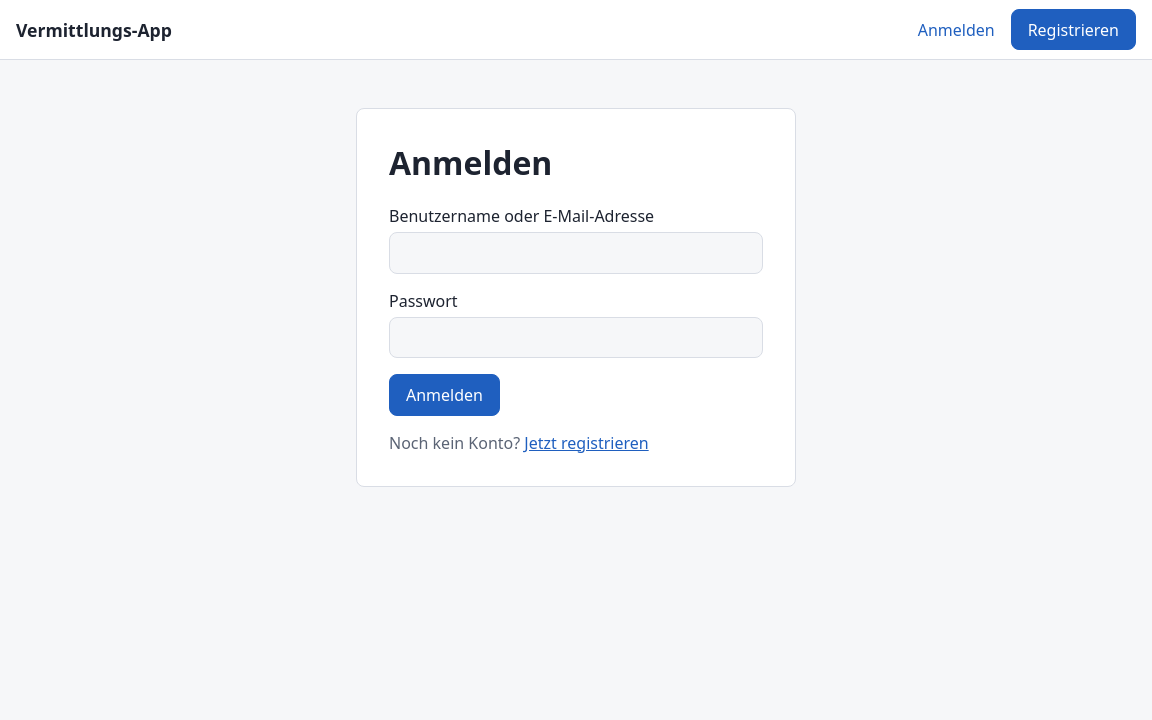
Scenario: LoginPage › shows the error message for invalid credentials
Type "anna@example.com" into the field labelled "Benutzername oder E-Mail-Adresse". click: [576, 253]
box: 389,232 -> 763,274
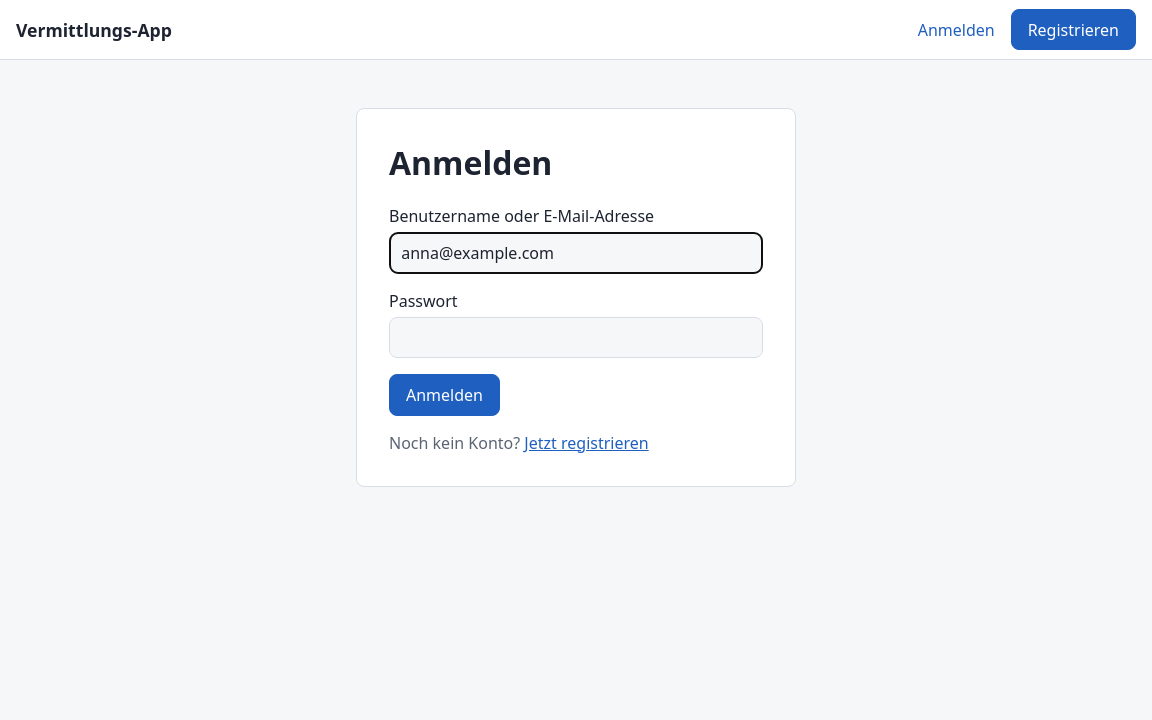
Type "wrong" into the password field labelled "Passwort". click: [576, 337]
box: 389,317 -> 763,358
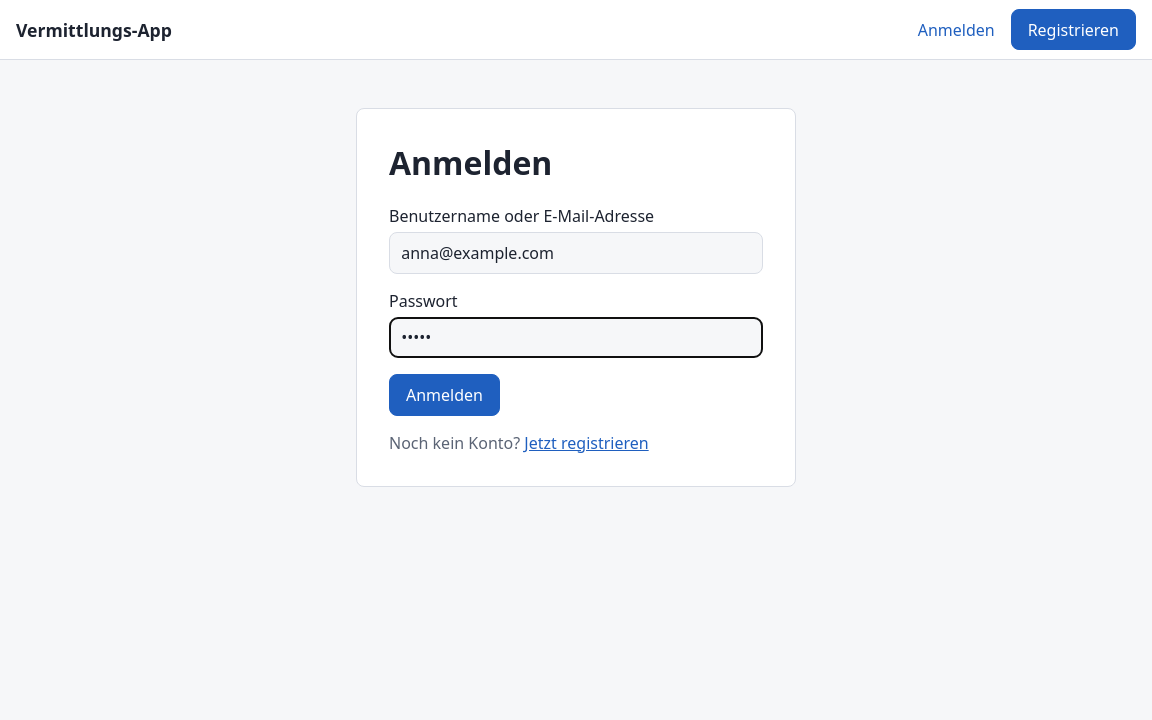
Click the button "Anmelden". click: [444, 395]
box: 389,374 -> 500,416
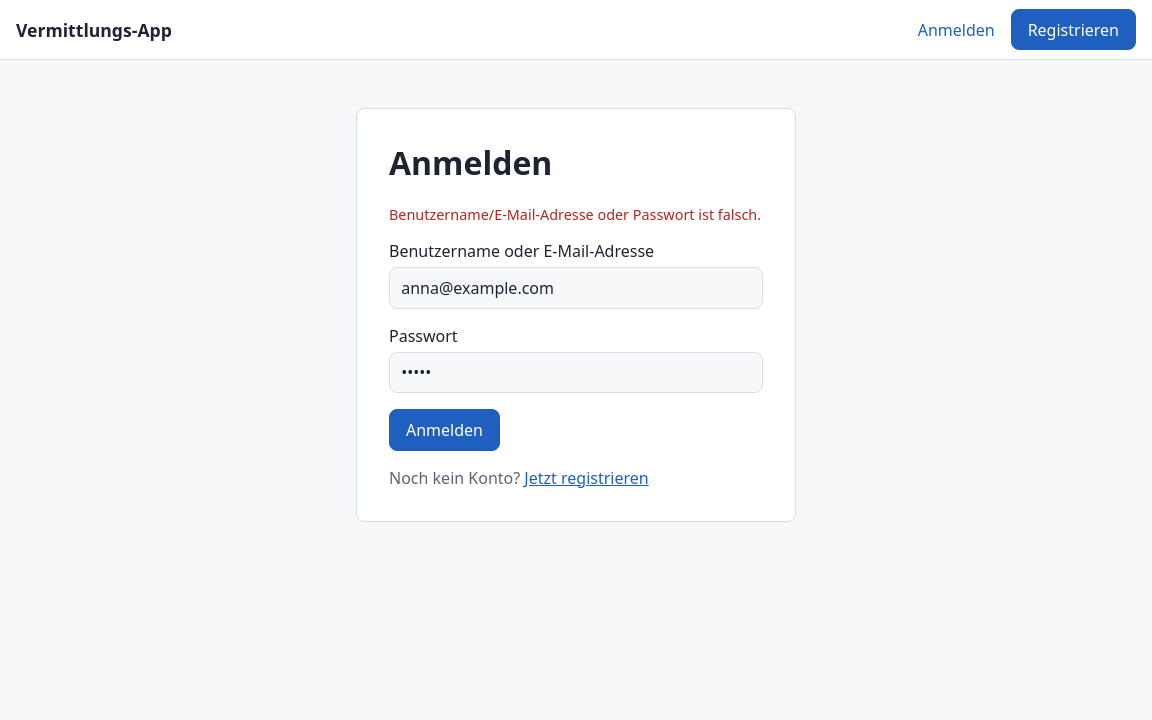
Expected: the heading "Anmelden" is shown, 389,141 -> 552,184
Expected: the message reads "Benutzername/E-Mail-Adresse oder Passwort ist falsch.", 389,205 -> 761,224
